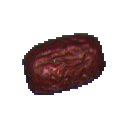gd: (9, 11, 116, 113)
